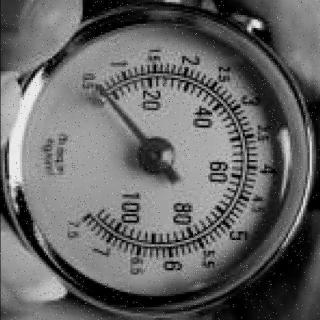gauge: (0, 0, 320, 320), (70, 65, 122, 122), (61, 195, 115, 247), (136, 136, 176, 174), (92, 80, 108, 97)
